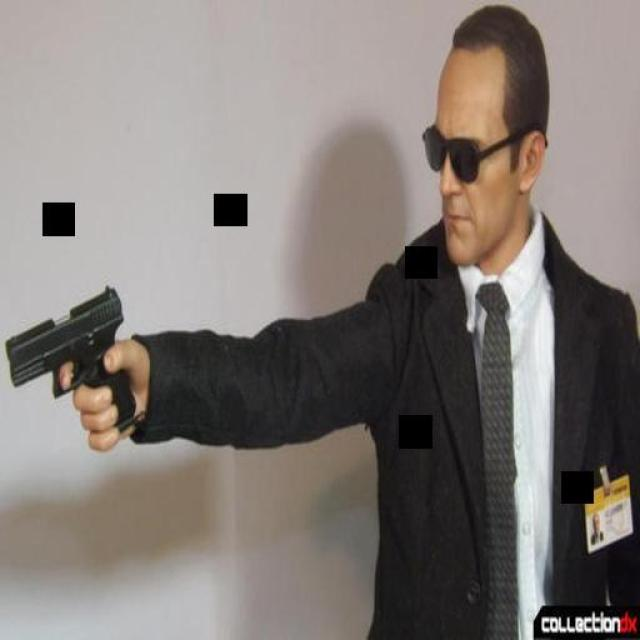gun: (0, 279, 132, 442)
